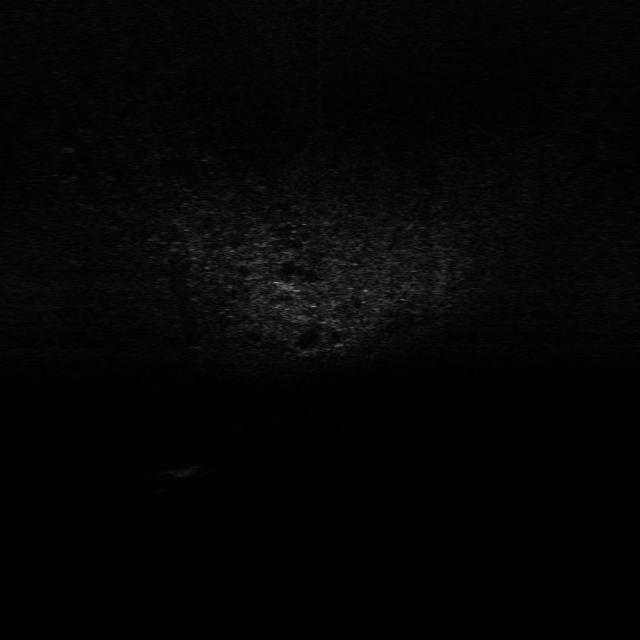cylinder: (162, 463, 204, 481)
